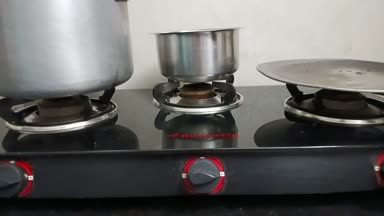flame_gas_off: (167, 82, 234, 193)
